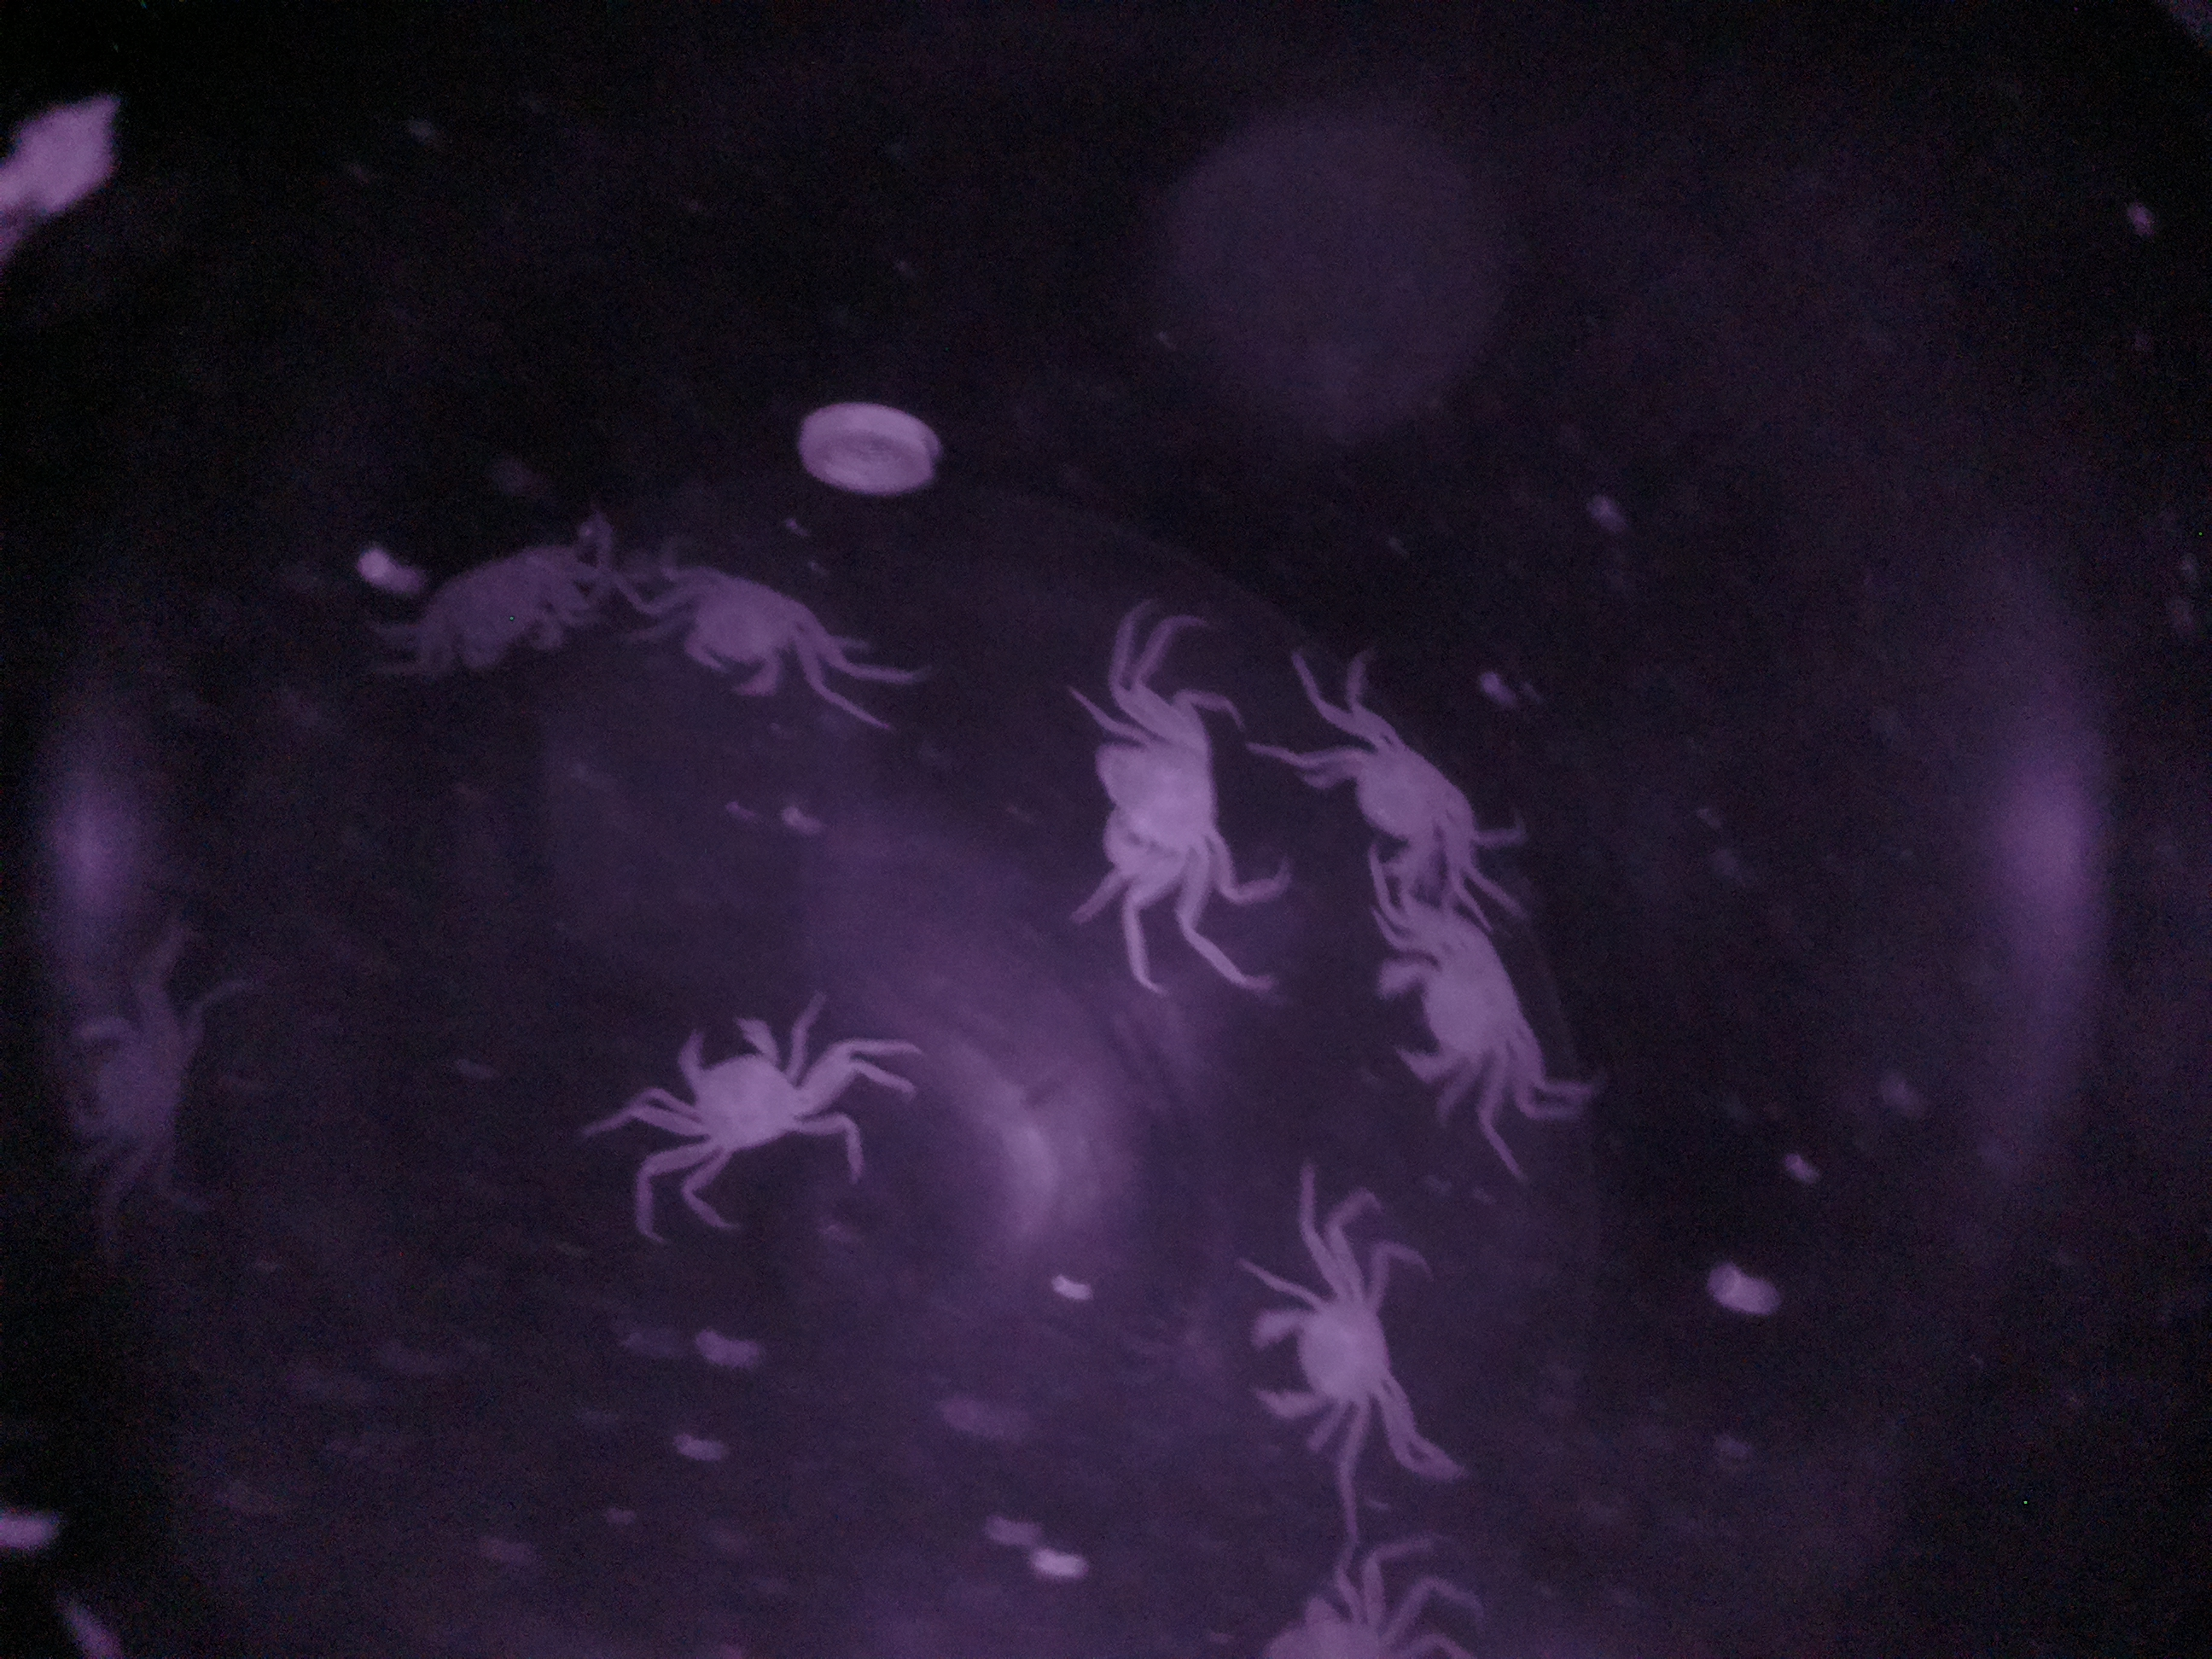Crab: (1355, 903, 1569, 1129), (1075, 664, 1233, 931), (634, 538, 853, 718), (1219, 1260, 1437, 1439), (643, 993, 829, 1197)
